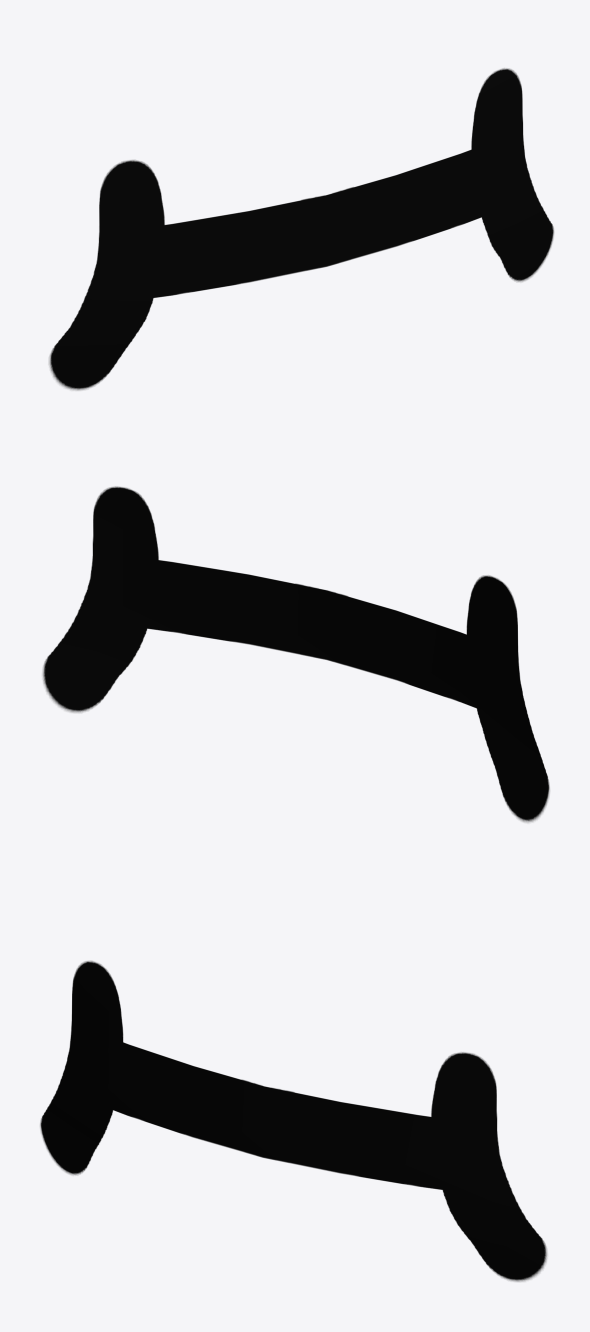
Rendered from Mouth3.glb.
The picture shows the model from 3 angles, top to bottom: view 1: azimuth 30°, elevation 25°; view 2: azimuth 150°, elevation 25°; view 3: azimuth 330°, elevation 25°; orthographic projection.
Parts seen in each view (by area): view 1: Mouth3; view 2: Mouth3; view 3: Mouth3.
Part boxes in pixels (left/top/right/bottom): Mouth3: left=49, top=68, right=553, bottom=390; Mouth3: left=43, top=486, right=549, bottom=822; Mouth3: left=40, top=961, right=546, bottom=1281.
Size of the model in its own units: 0.0862 by 0.0443 by 0.0104.
1 material, 1 textured.
